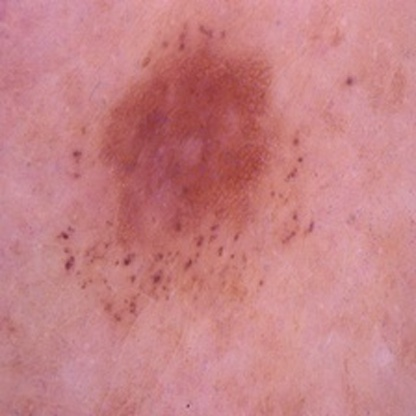benign: (79, 59, 286, 295)
